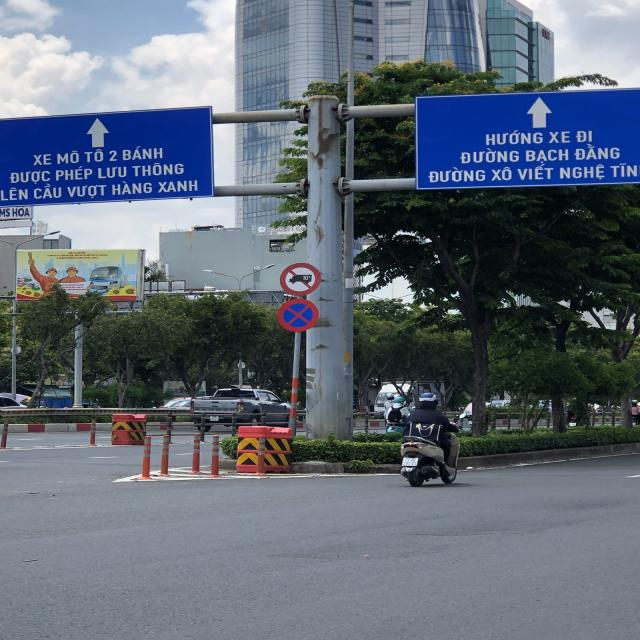Bien bao cam dung xe va do xe: (273, 295, 320, 334)
Bien bao cam xe oto tai: (276, 256, 324, 297)
